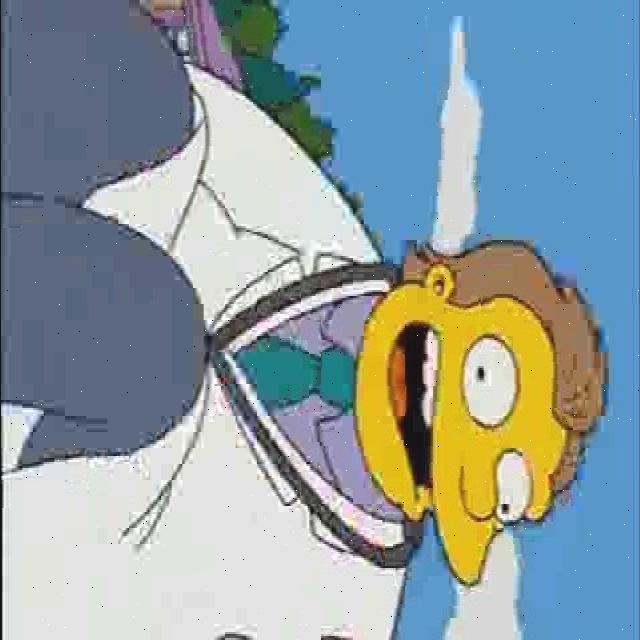Barney Gumble: (348, 236, 610, 592)
